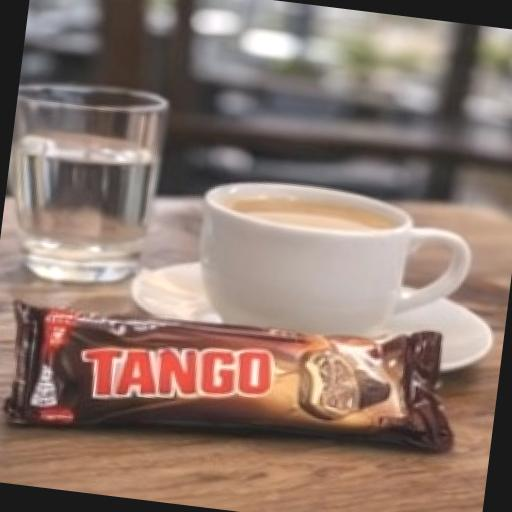tango: (0, 233, 509, 506)
